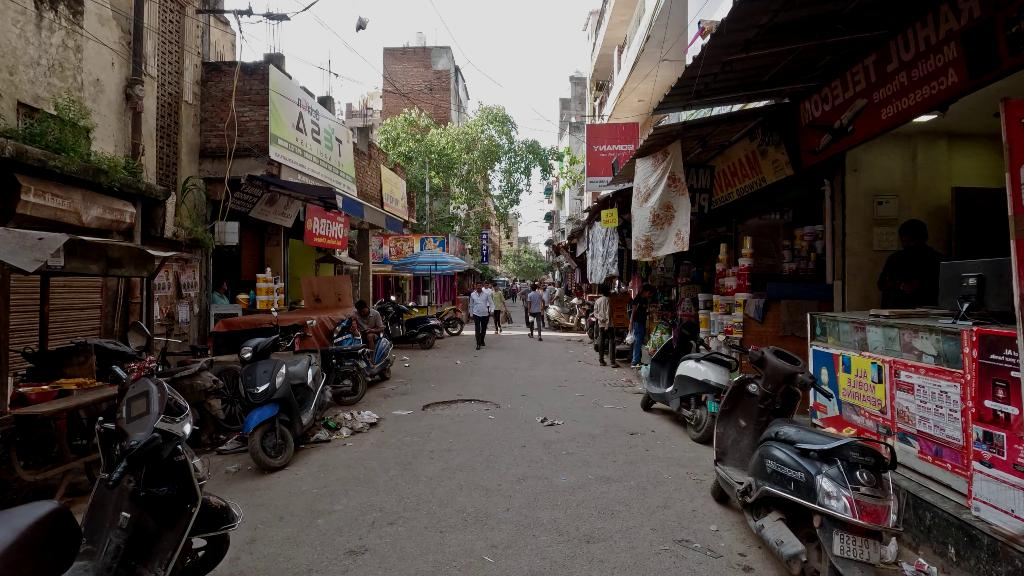garbage: (305, 409, 388, 451), (533, 411, 564, 432)
